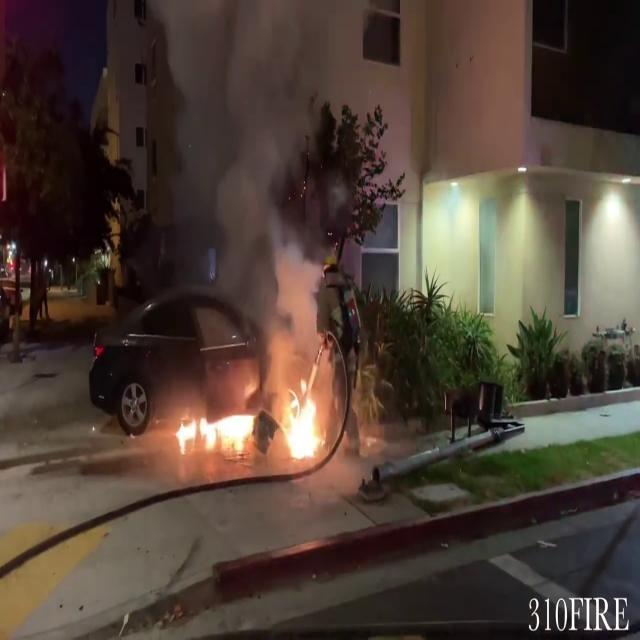Fire: (170, 370, 329, 472), (279, 370, 326, 466)
Smoke: (151, 0, 337, 313)
